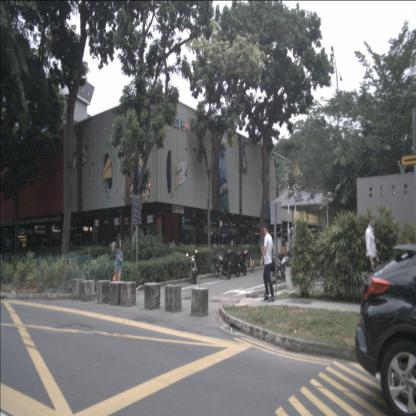human-pedestrian-adult: (365, 213, 380, 314), (260, 222, 275, 302), (112, 247, 124, 288), (116, 232, 123, 263), (110, 237, 115, 264), (88, 235, 95, 254), (7, 236, 12, 261), (100, 235, 106, 255), (210, 235, 216, 254), (170, 237, 177, 253), (240, 234, 245, 254), (199, 233, 204, 252), (167, 241, 173, 256), (178, 238, 184, 253), (225, 235, 230, 252), (216, 239, 222, 253), (203, 233, 207, 254), (188, 239, 194, 253), (282, 236, 286, 256), (215, 235, 219, 252), (243, 234, 247, 251), (212, 241, 217, 254), (245, 242, 250, 254), (241, 242, 246, 254), (230, 237, 233, 255), (248, 237, 252, 250), (257, 237, 260, 254), (238, 240, 242, 252), (221, 237, 224, 252)
vehicle-bicycle: (186, 249, 198, 284), (248, 255, 255, 273)
vehicle-car: (354, 242, 416, 416)
vehicle-motorcycle: (268, 255, 296, 283), (220, 245, 241, 277), (212, 248, 232, 279), (229, 250, 248, 276)
